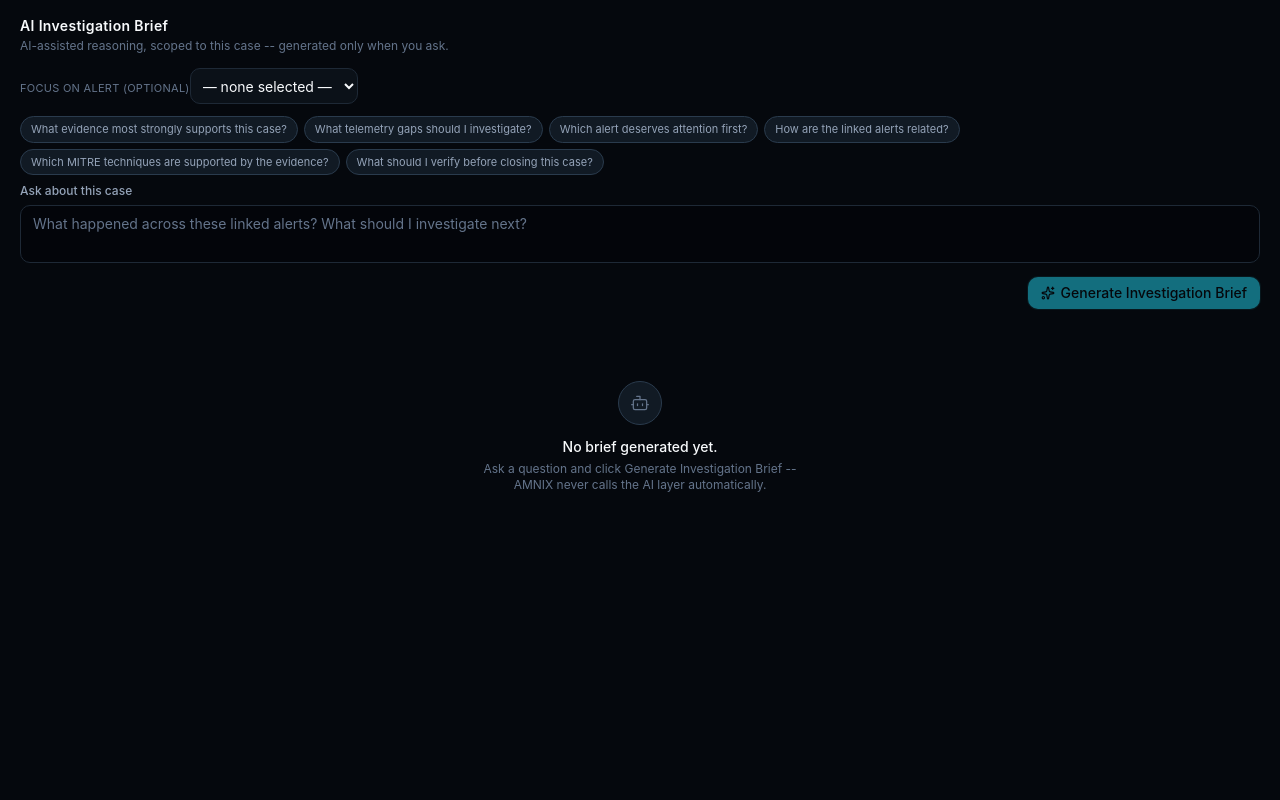
Test: Step 13E: Case Copilot follow-up conversation › never shows a focused-alert selector once a brief has been generated
Type "What happened?" into the text box labelled "Ask about this case" at (640, 234), box [20,205,1260,263]
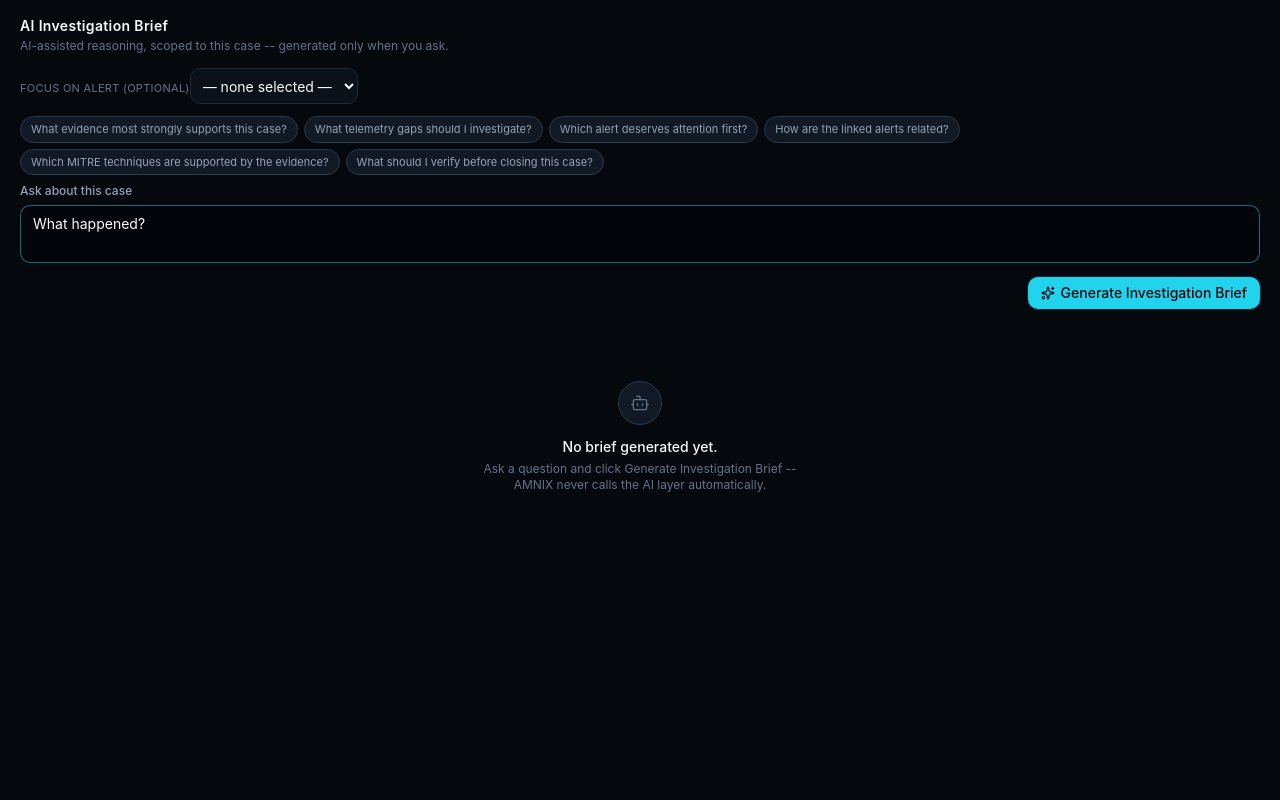
Click the button "Generate Investigation Brief" at (1144, 293), box [1028,277,1260,309]
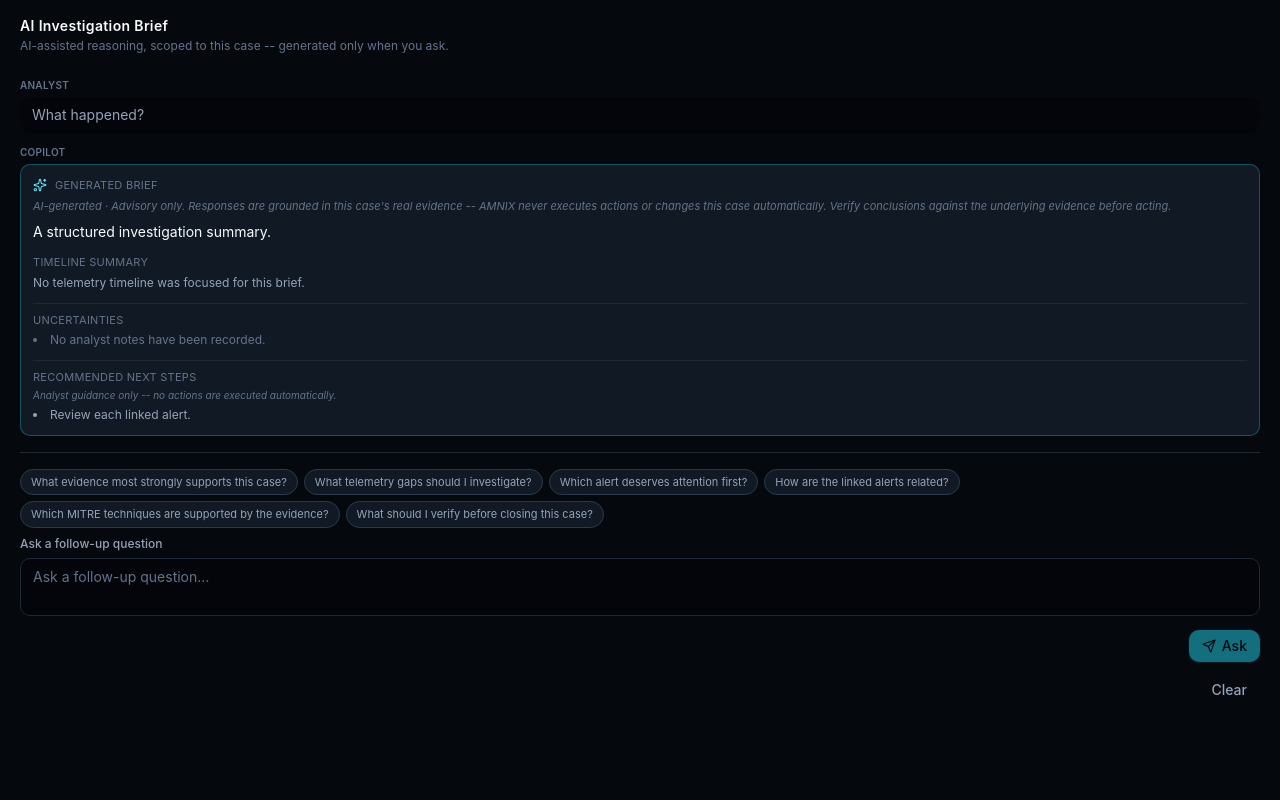
Now the text "Generated Brief" is shown, box [55,177,158,194]
Now the label labelled "Focus on alert (optional)" is gone
